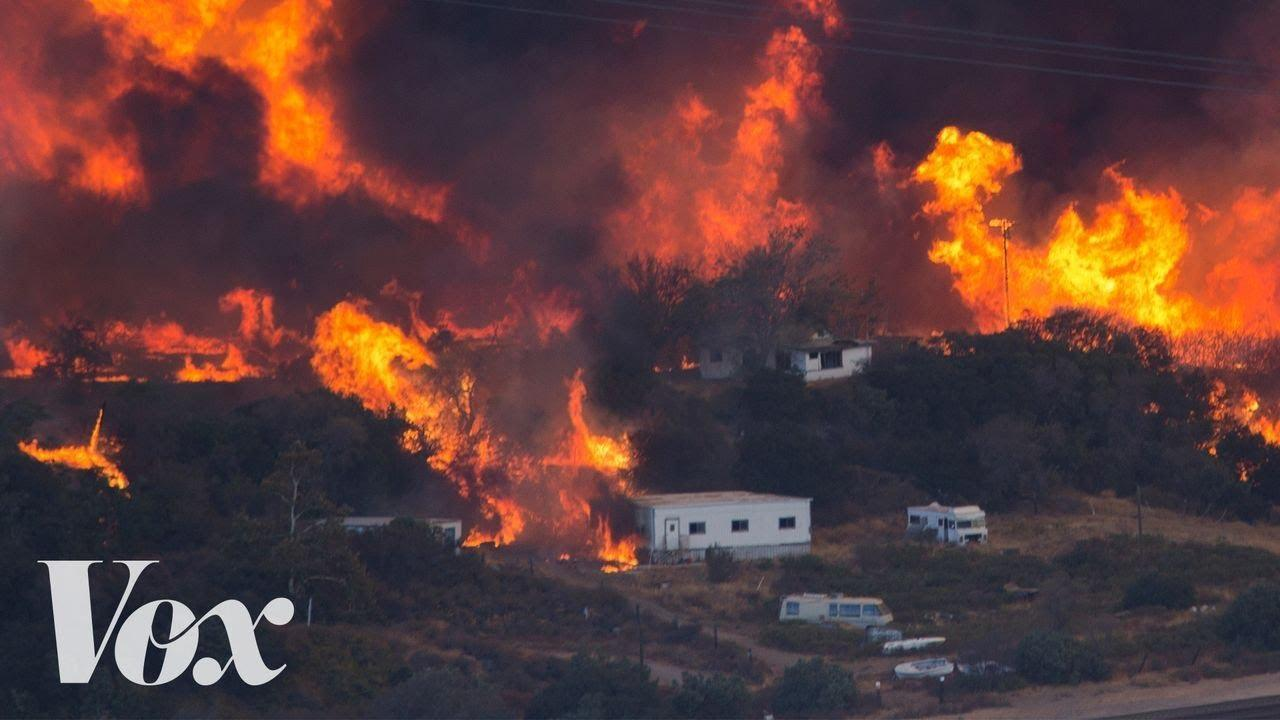fire: (322, 285, 662, 577), (894, 148, 1239, 364), (25, 266, 276, 498)
